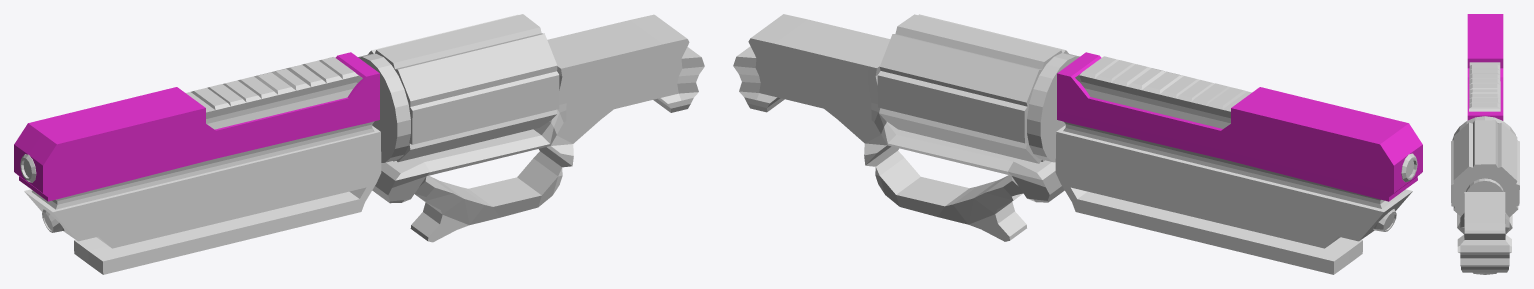
The model's file is Revolver.fbx.
3 renders of one model, left to right at view 1: azimuth 30°, elevation 25°; view 2: azimuth 150°, elevation 25°; view 3: azimuth 270°, elevation 25°, orthographic. The views are drawn at different scales.
Visible parts, largest first — view 1: Cube.004, Cube.001, Cube, Circle, Cube.003, Cube.002, Circle.001, Cylinder; view 2: Cube.001, Cube.004, Cube, Circle, Cube.003, Cube.002, Circle.001, Cylinder; view 3: Circle, Cube.004, Cube, Cube.003, Circle.002, Circle.001.
Part boxes in pixels (x1=…): Cube.004: x1=372, y1=14, x2=704, y2=242; Cube.001: x1=24, y1=126, x2=381, y2=274; Cube: x1=14, y1=52, x2=379, y2=201; Circle: x1=368, y1=14, x2=559, y2=162; Cube.003: x1=186, y1=57, x2=362, y2=129; Cube.002: x1=31, y1=121, x2=374, y2=209; Circle.001: x1=358, y1=53, x2=410, y2=162; Cylinder: x1=20, y1=154, x2=64, y2=232; Cube.001: x1=1055, y1=125, x2=1412, y2=274; Cube.004: x1=733, y1=14, x2=1064, y2=241; Cube: x1=1057, y1=52, x2=1422, y2=201; Circle: x1=877, y1=14, x2=1068, y2=163; Cube.003: x1=1075, y1=56, x2=1251, y2=128; Cube.002: x1=1063, y1=122, x2=1405, y2=208; Circle.001: x1=1027, y1=53, x2=1079, y2=162; Cylinder: x1=1373, y1=153, x2=1417, y2=231; Circle: x1=1451, y1=120, x2=1519, y2=217; Cube.004: x1=1457, y1=192, x2=1512, y2=274; Cube: x1=1467, y1=14, x2=1503, y2=120; Cube.003: x1=1469, y1=62, x2=1500, y2=111; Circle.002: x1=1466, y1=178, x2=1503, y2=191; Circle.001: x1=1452, y1=116, x2=1515, y2=140.
Size of the model in its own units: 622 by 176 by 91.57.
